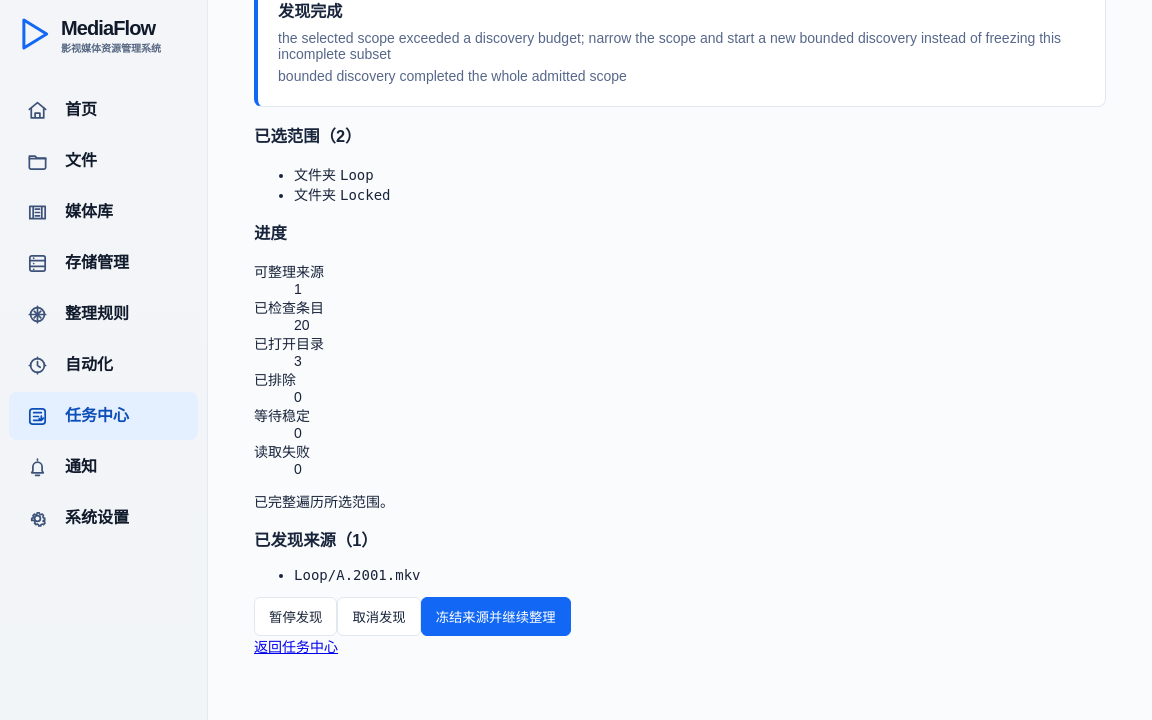
Scenario: bounded discovery refusal journey › explains the fenced concurrent finalize instead of a raw conflict code
(page scrolled)
Click the button "冻结来源并继续整理" at coordinates (496, 617), box [421, 597, 571, 636]
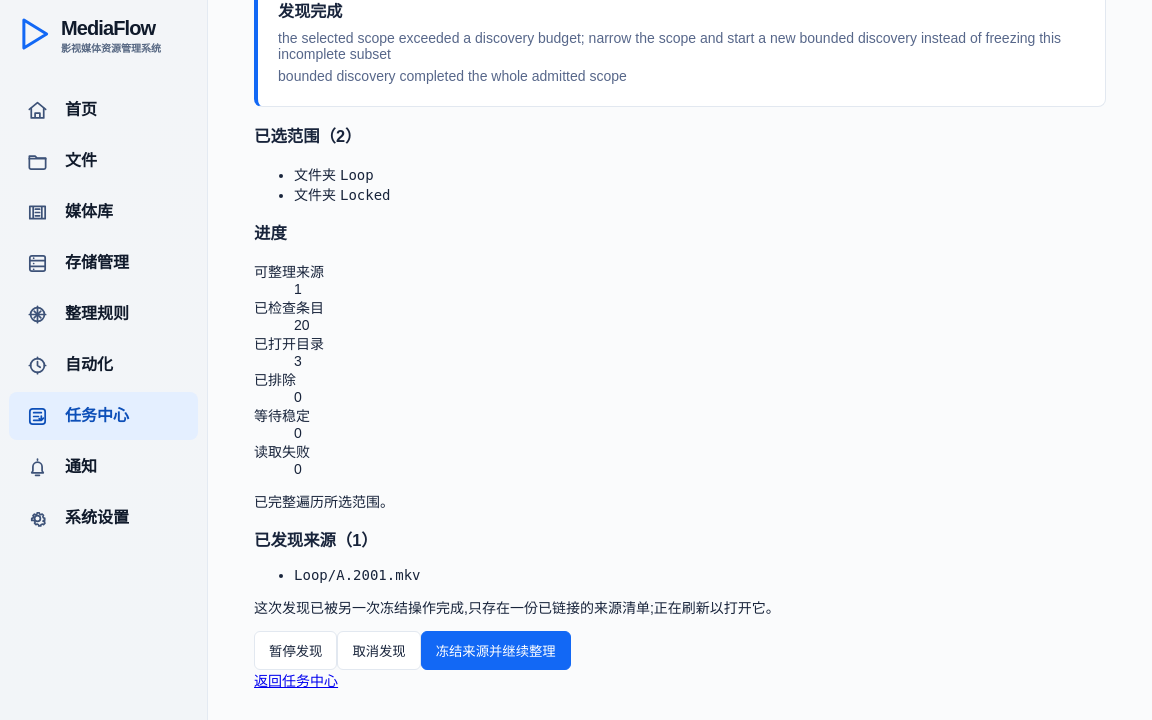
Check: the text "这次发现已被另一次冻结操作完成,只存在一份已链接的来源清单;正在刷新以打开它。" is shown, box [254, 600, 780, 616]
